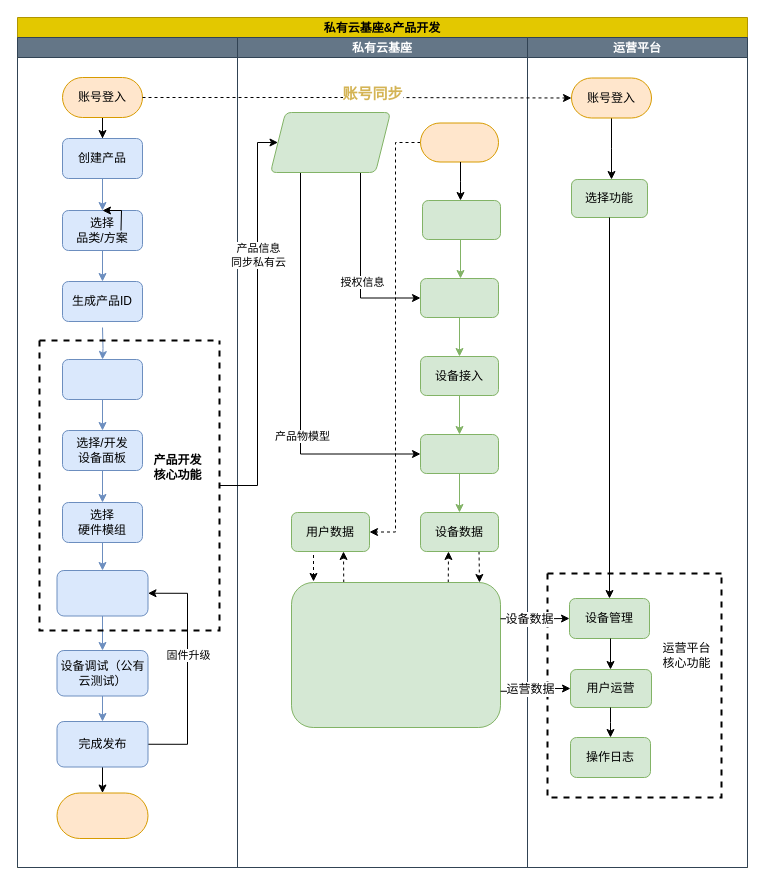
Image size: 765x885. Some labels were removed from this diagram. The shapes that lost their labels are listed below. From the top down, each one's box as (x1, y1, x2, y2) in pixels, then its label:
(270, 112, 390, 172): 私有云 产品模型数据
(420, 122, 498, 162): App用户登入
(422, 200, 500, 240): 设备配网激活
(420, 278, 498, 318): 私有云 连接鉴权
(62, 358, 142, 400): 选择/定义 产品功能
(16, 36, 238, 868): 产品开发平台
(420, 434, 498, 474): 产品模型加载
(56, 570, 148, 616): 选择/开发/上传固件
(290, 582, 500, 728): 私有云连接服务
(56, 792, 148, 838): 完成开发
